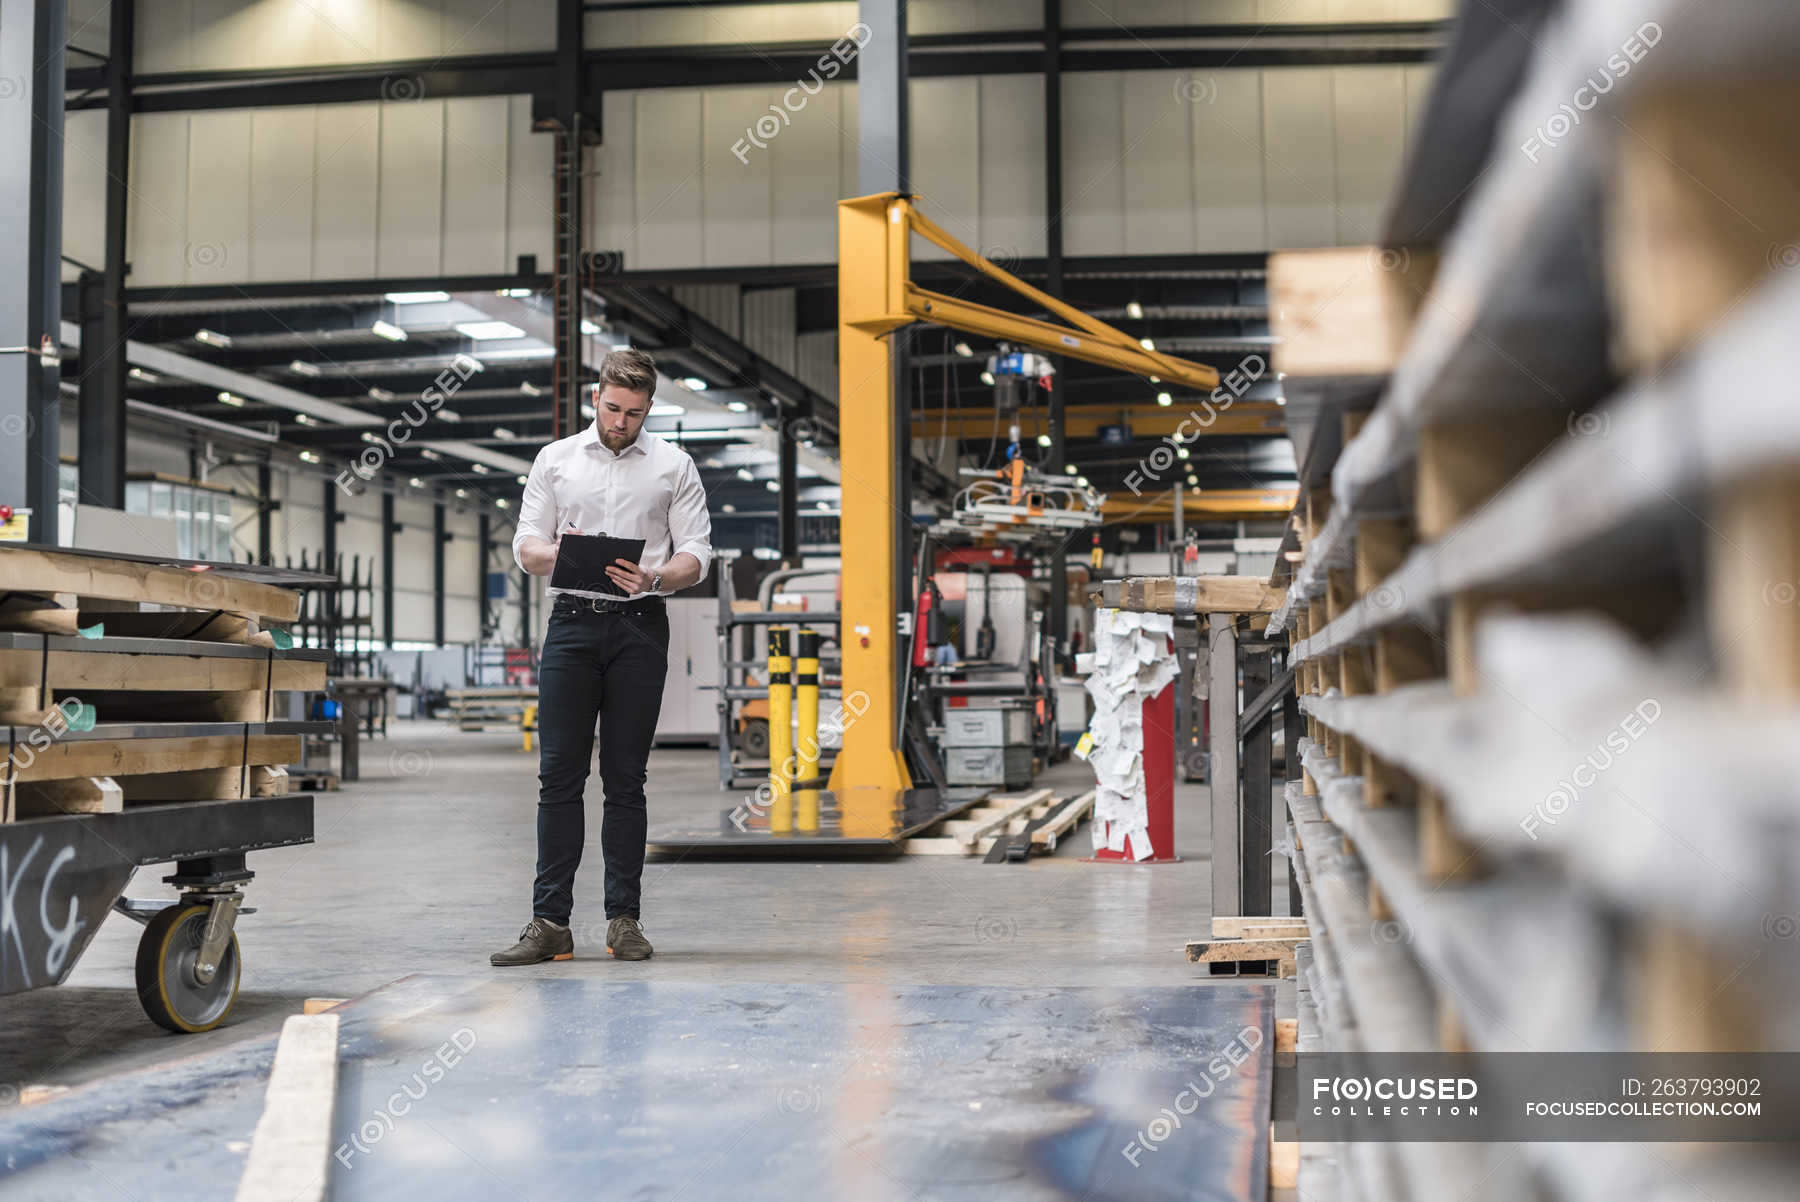person: (488, 348, 715, 965)
